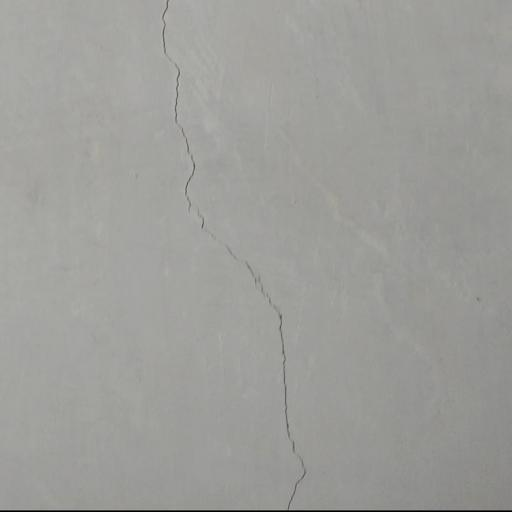minor_crack: (161, 3, 317, 512)
